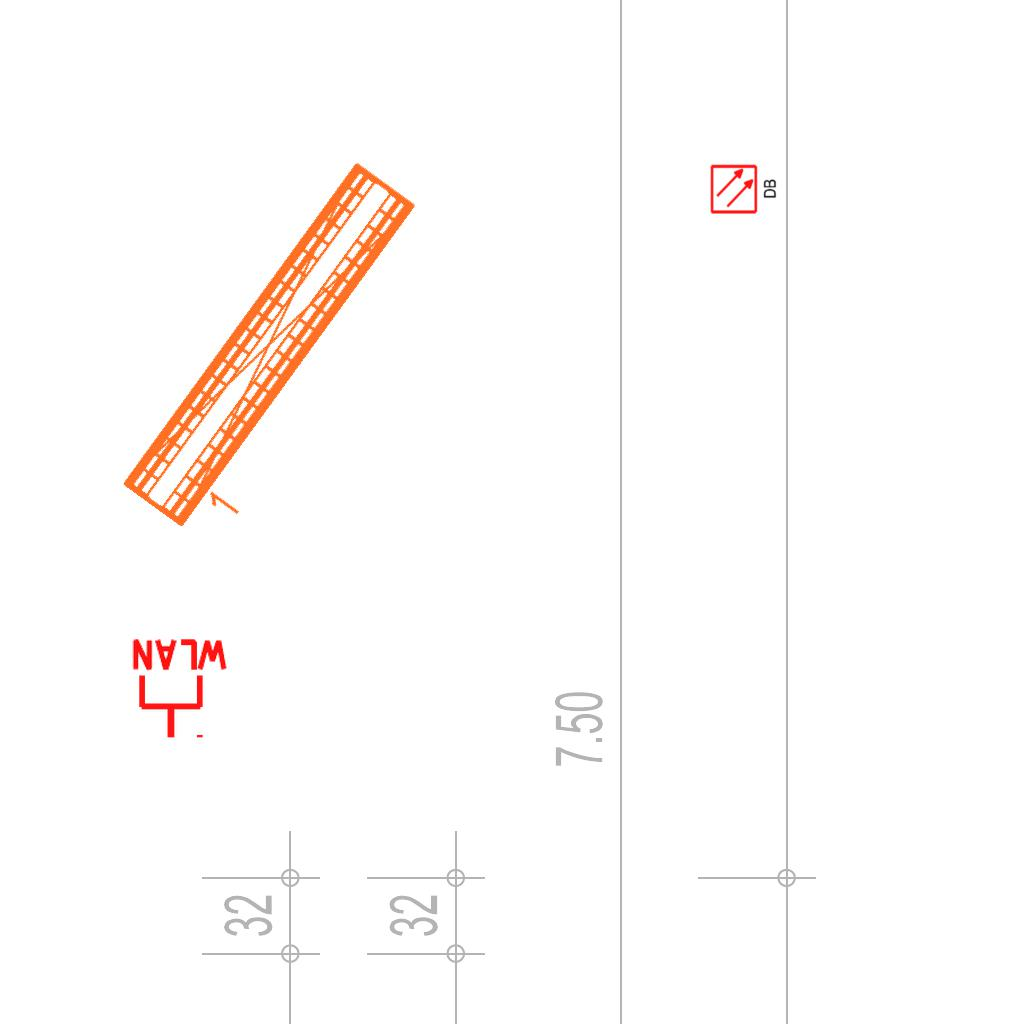Buero_Pendelleuchten_LED: (110, 149, 459, 561)
DB_Melder_in_Doppelboden_mit_Revisionsoeffnung_mind_40_x_40_cm: (707, 160, 781, 217)
WLAN: (128, 637, 232, 742)
